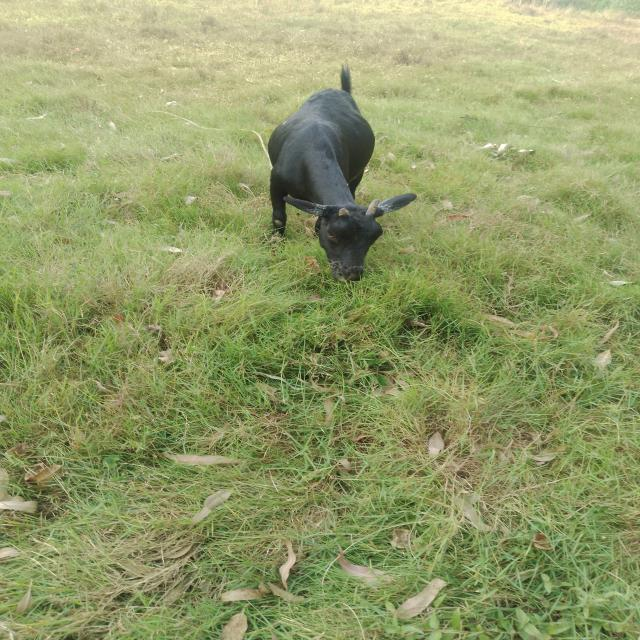goat: (243, 42, 441, 309)
